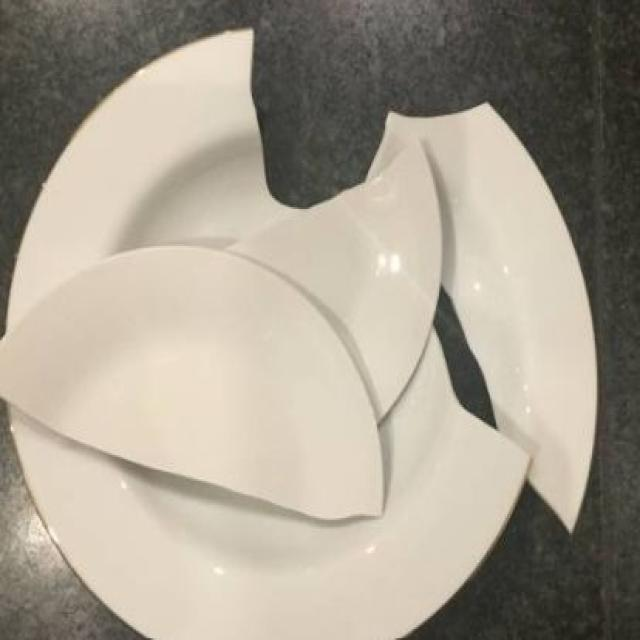electronic: (0, 22, 598, 640)
